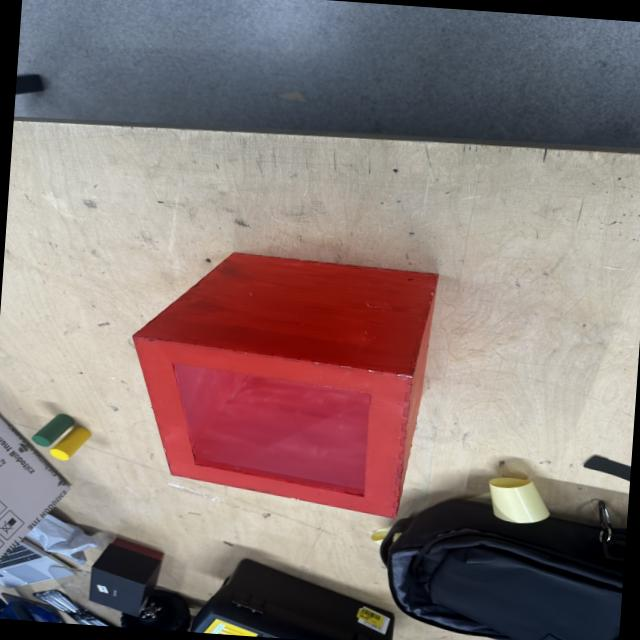red_bin: (119, 243, 442, 522)
